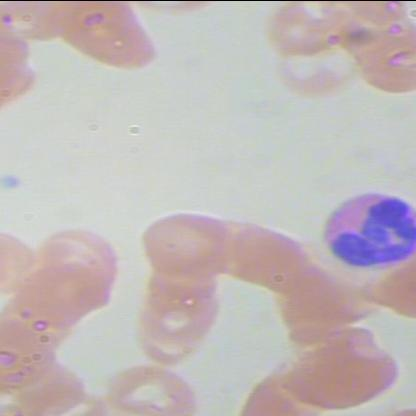Platelets: (1, 165, 30, 194)
RBC: (279, 324, 403, 416), (47, 1, 166, 74), (140, 206, 230, 283), (274, 26, 364, 103), (31, 221, 127, 280), (107, 358, 204, 415), (136, 291, 224, 347), (232, 222, 300, 286)
WBC: (312, 188, 415, 276)
